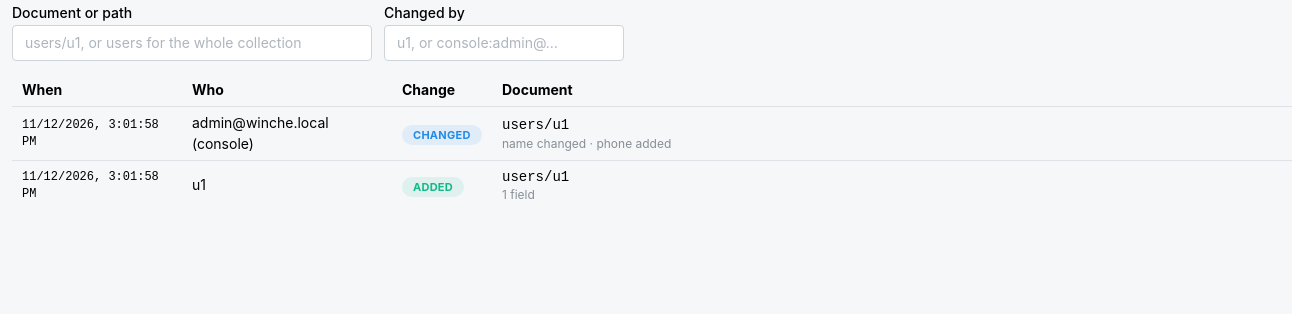
Test case: lists changes with who, what and a summary, and opens one for old and new values
This screenshot has width=1292, height=314.
Expected: the text "admin@winche.local (console)" is shown, [192,114,329,152]
Expected: the text "Changed" is shown, [413,126,471,144]
Click the row with test id "history-row" that starts with "11/12/2026, 3:01:58 PM": (652, 134) [12,107,1291,161]
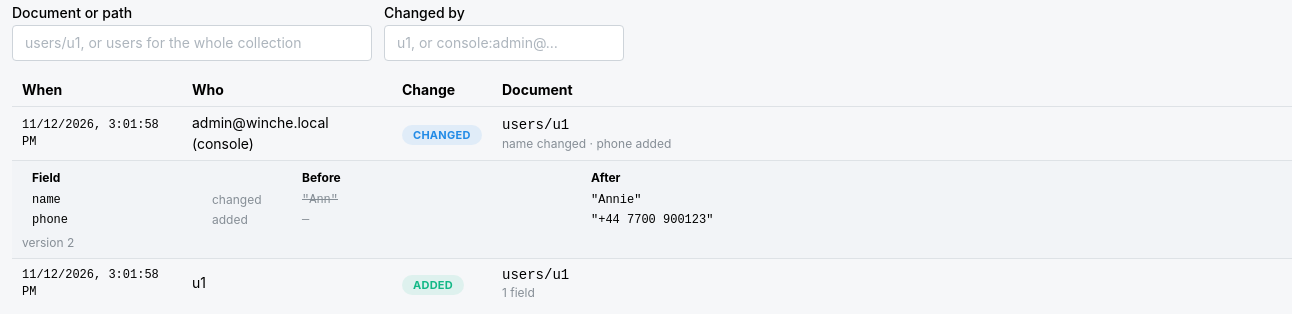
Now the text "\"Ann\"" is shown, box [302,193,338,207]
Now the text "\"Annie\"" is shown, box [591,193,641,207]
Now the text "\"+44 7700 900123\"" is shown, box [591,214,713,228]
